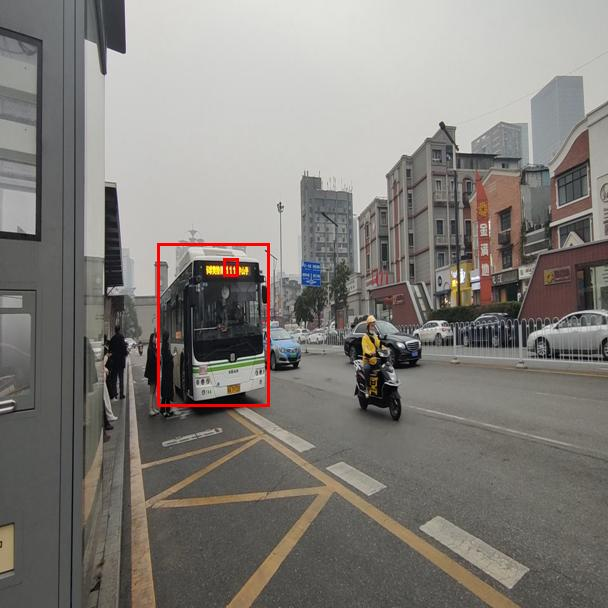bus: (157, 243, 269, 406)
screen: (223, 258, 238, 276)
